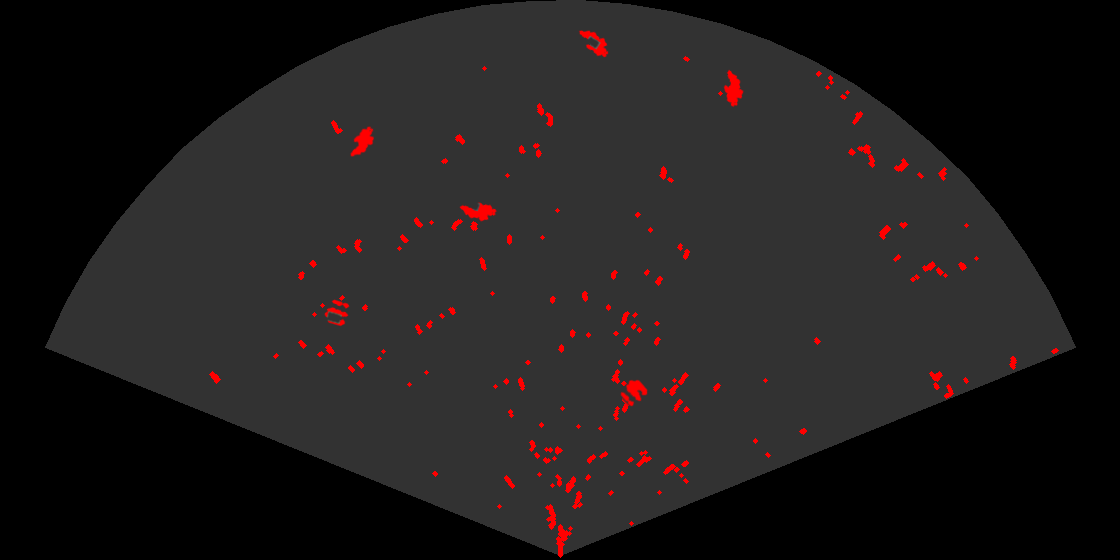AUV: (577, 29, 610, 59), (722, 68, 745, 109), (458, 201, 499, 223), (349, 125, 376, 158)
ball: (619, 378, 649, 408), (323, 298, 351, 328)
